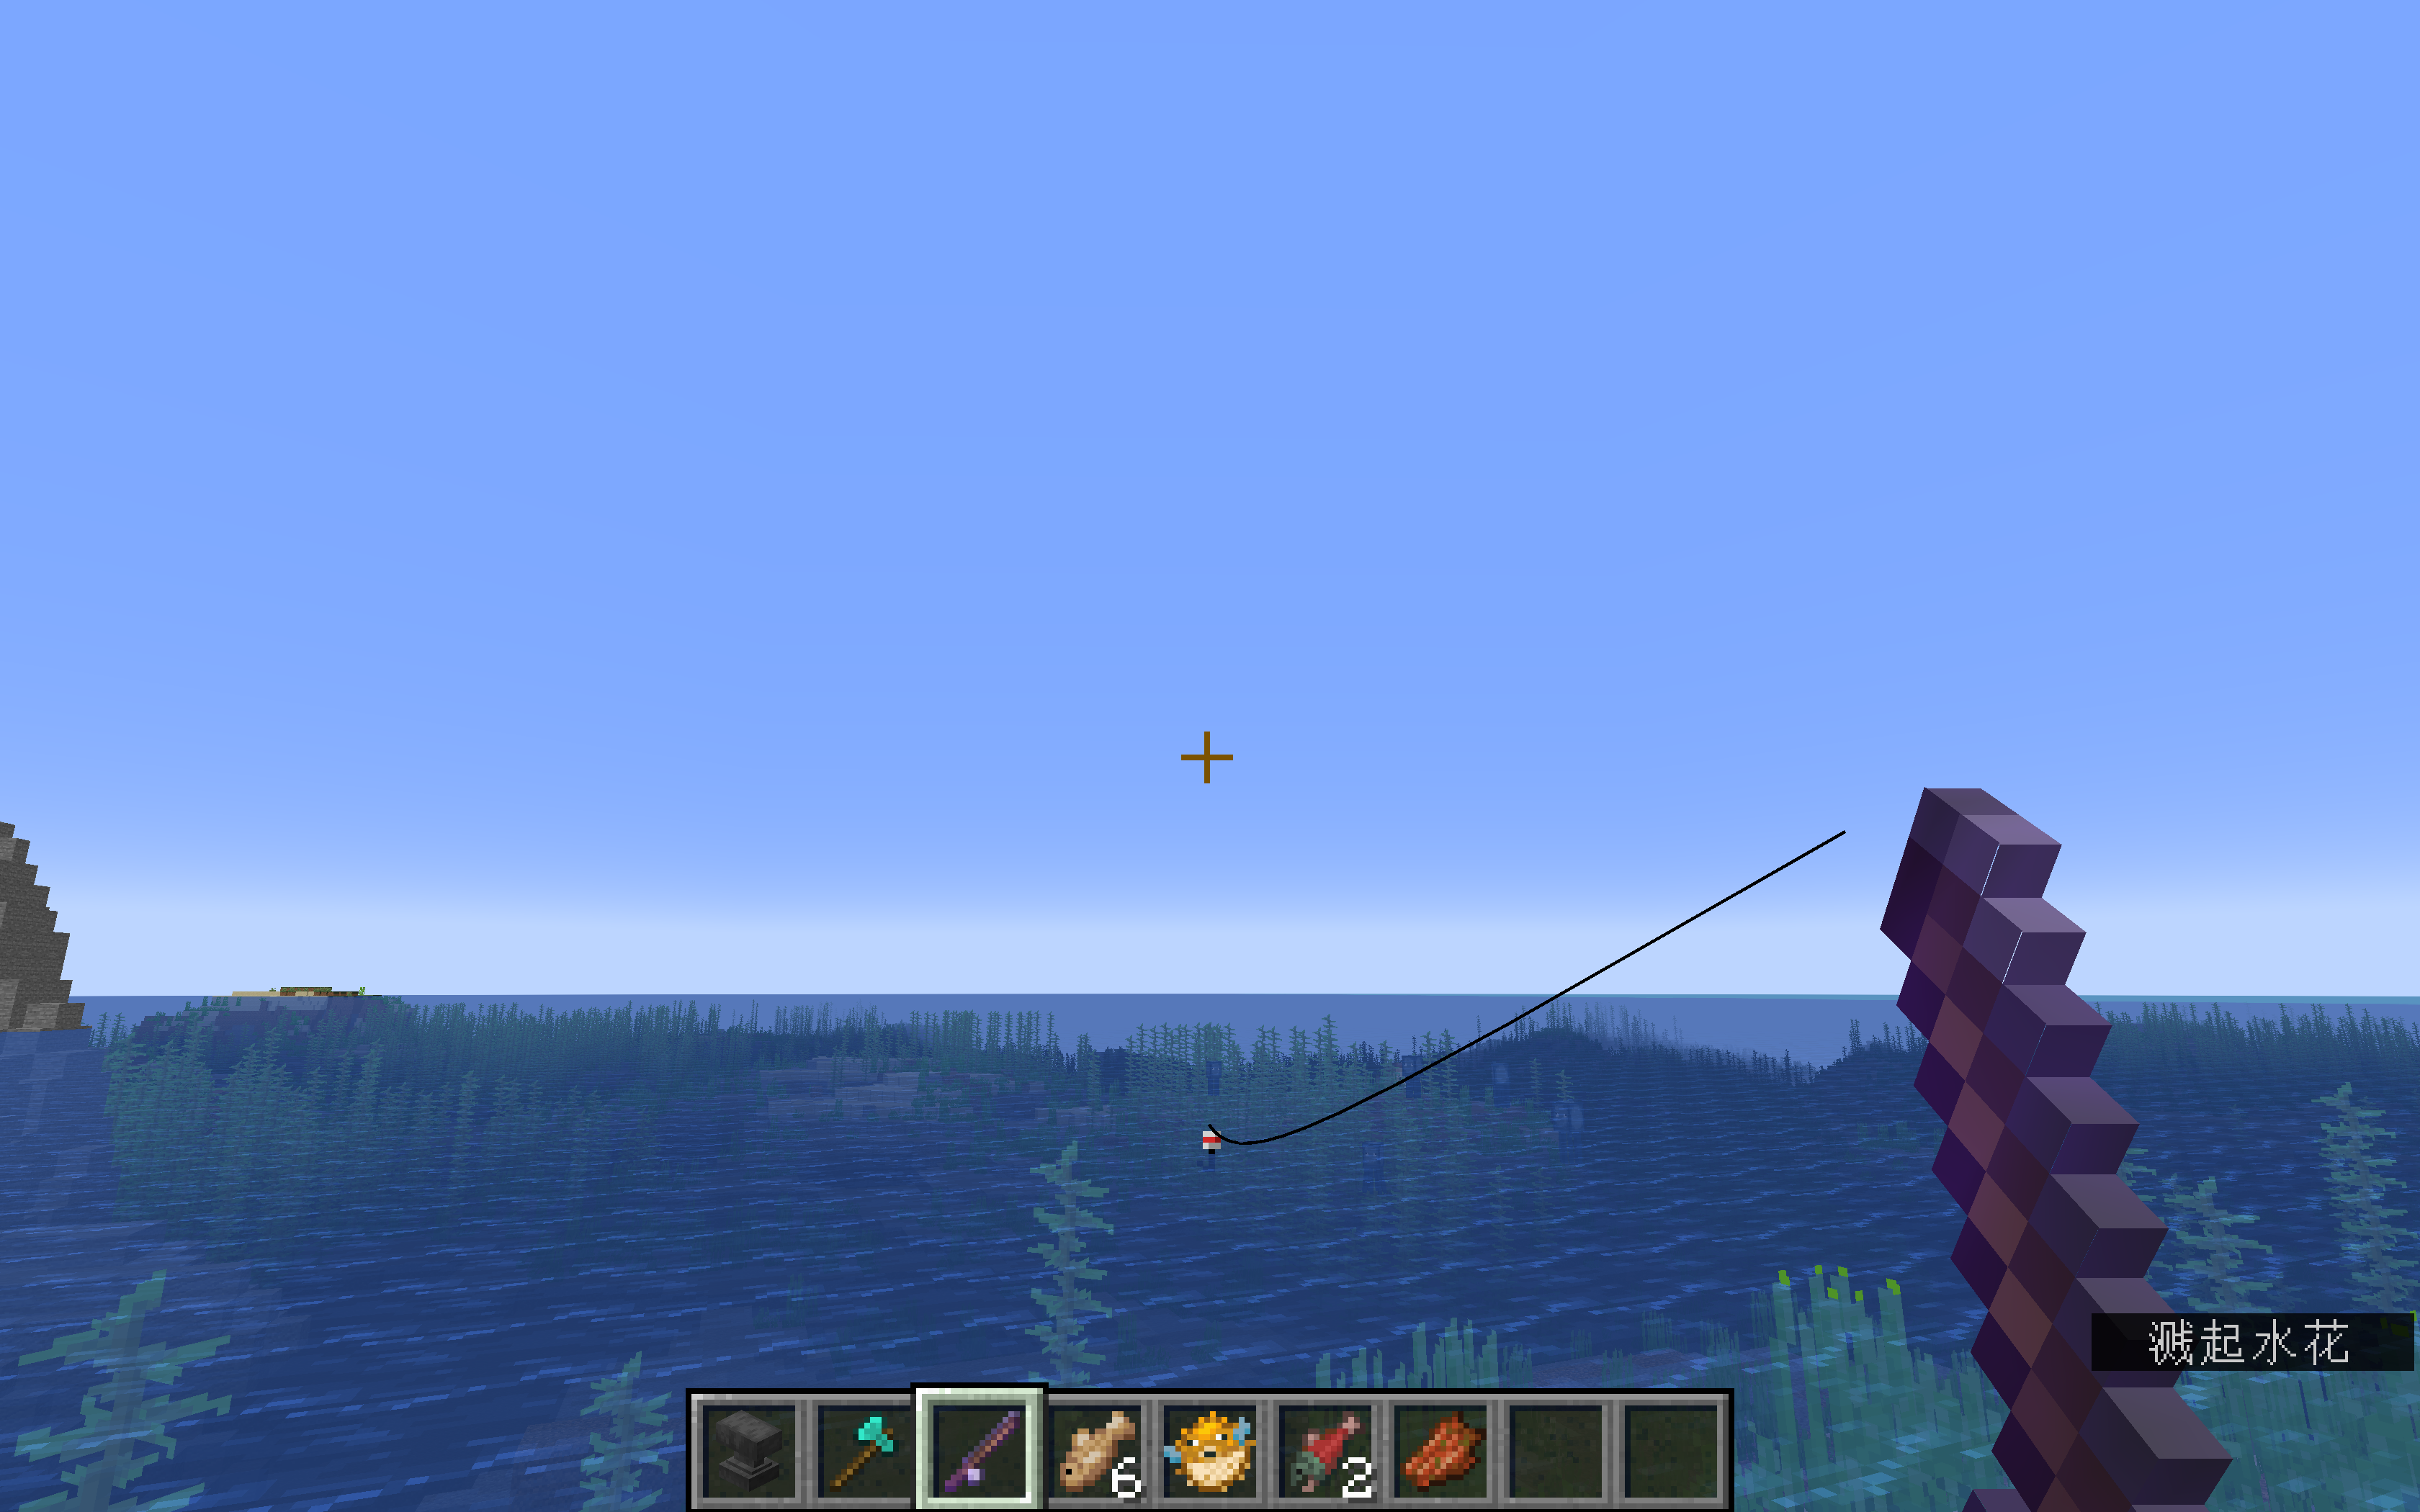inf: (2092, 1312, 2413, 1373)
